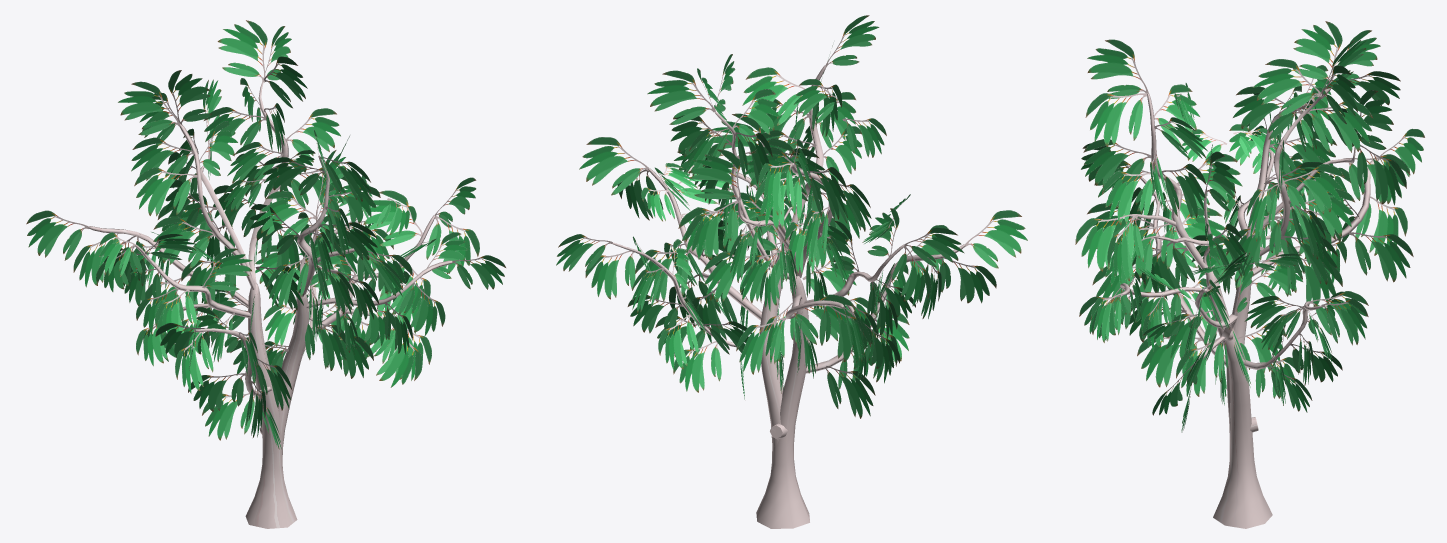
Rendered from Tree1.obj.
3 renders of one model, left to right at view 1: azimuth 30°, elevation 25°; view 2: azimuth 150°, elevation 25°; view 3: azimuth 270°, elevation 25°, orthographic. The views are drawn at different scales.
Visible parts, largest first — view 1: Main Tree_01, Tree_01 Main2, Tree_01 Branches B8 pPlane92, Tree_01 Branches B6 pPlane32, Tree_01 Branches B6 pPlane3, Tree_01 Branches B9 pPlane3, Tree_01 Branches B10 pPlane44, Tree_01 Branches B5 pPlane46, Tree_01 Branches B6 pPlane69, Tree_01 Branches B10 pPlane62, Tree_01 Branches B8 pPlane52, Tree_01 Branches B6 pPlane31 (+64 smaller); view 2: Main Tree_01, Tree_01 Main2, Tree_01 Branches B10 pPlane18, Tree_01 Branches B8 pPlane7, Tree_01 Branches B11 pPlane7, Tree_01 B4 Branches pPlane4, Tree_01 B4 Branches pPlane41, Tree_01 Branches B7 pPlane29, Tree_01 Branches B9 pPlane70, Tree_01 Branches B11 pPlane53, Tree_01 Branches B11 pPlane56, Tree_01 Branches B12 pPlane53 (+52 smaller); view 3: Main Tree_01, Tree_01 Branches B7 pPlane19, Tree_01 Branches B8 pPlane91, Tree_01 Branches B7 pPlane18, Tree_01 Branches B8 pPlane53, Tree_01 Branches B7 pPlane9, Tree_01 Branches B8 pPlane88, Tree_01 Branches B9 pPlane70, Tree_01 Branches B7 pPlane74, Tree_01 Branches B7 pPlane30, Tree_01 Branches B6 pPlane93, Tree_01 Branches B8 pPlane90 (+71 smaller).
Part boxes in pixels (box(x1,y1,x2,y2)): Main Tree_01: box(245, 293, 308, 528); Tree_01 Main2: box(248, 283, 281, 469); Tree_01 Branches B8 pPlane92: box(217, 20, 267, 82); Tree_01 Branches B6 pPlane32: box(134, 167, 197, 216); Tree_01 Branches B6 pPlane3: box(118, 81, 180, 135); Tree_01 Branches B9 pPlane3: box(26, 210, 88, 260); Tree_01 Branches B10 pPlane44: box(367, 327, 422, 387); Tree_01 Branches B5 pPlane46: box(256, 191, 315, 237); Tree_01 Branches B6 pPlane69: box(131, 137, 194, 180); Tree_01 Branches B10 pPlane62: box(363, 190, 422, 246); Tree_01 Branches B8 pPlane52: box(286, 108, 340, 162); Tree_01 Branches B6 pPlane31: box(153, 216, 215, 268); Main Tree_01: box(756, 251, 809, 528); Tree_01 Main2: box(776, 271, 809, 465); Tree_01 Branches B10 pPlane18: box(579, 137, 648, 195); Tree_01 Branches B8 pPlane7: box(647, 70, 715, 124); Tree_01 Branches B11 pPlane7: box(965, 210, 1027, 268); Tree_01 B4 Branches pPlane4: box(688, 149, 740, 201); Tree_01 B4 Branches pPlane41: box(685, 200, 738, 259); Tree_01 Branches B7 pPlane29: box(742, 67, 805, 125); Tree_01 Branches B9 pPlane70: box(736, 317, 785, 374); Tree_01 Branches B11 pPlane53: box(939, 257, 996, 303); Tree_01 Branches B11 pPlane56: box(825, 366, 875, 418); Tree_01 Branches B12 pPlane53: box(585, 250, 635, 299); Main Tree_01: box(1206, 267, 1272, 528); Tree_01 Branches B7 pPlane19: box(1085, 93, 1147, 146); Tree_01 Branches B8 pPlane91: box(1252, 59, 1321, 116); Tree_01 Branches B7 pPlane18: box(1087, 39, 1148, 98); Tree_01 Branches B8 pPlane53: box(1307, 100, 1372, 152); Tree_01 Branches B7 pPlane9: box(1075, 214, 1137, 271); Tree_01 Branches B8 pPlane88: box(1284, 164, 1344, 217); Tree_01 Branches B9 pPlane70: box(1349, 232, 1413, 282); Tree_01 Branches B7 pPlane74: box(1083, 139, 1151, 187); Tree_01 Branches B7 pPlane30: box(1102, 170, 1153, 224); Tree_01 Branches B6 pPlane93: box(1293, 21, 1342, 83); Tree_01 Branches B8 pPlane90: box(1233, 86, 1302, 139).
Size of the model in its own units: 17.84 by 19.99 by 13.36.
Materials: 2 (2 with a texture image).
